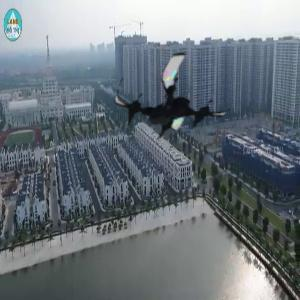drone: (117, 47, 229, 159)
